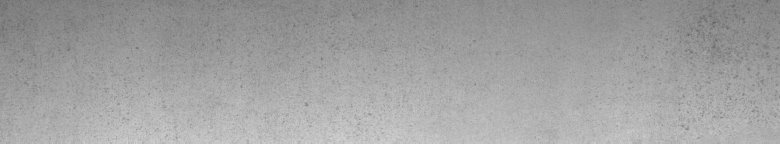ib: (678, 12, 764, 132)
